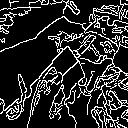cube: (46, 46, 89, 91)
